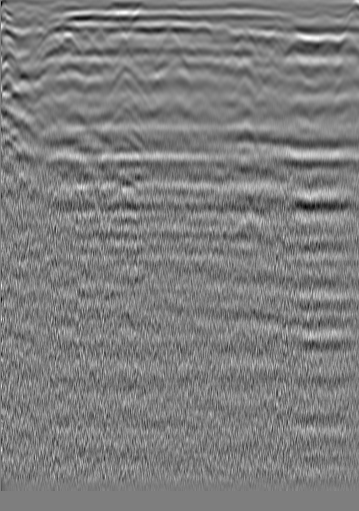가스: (106, 167, 144, 197)
상수: (21, 20, 47, 52)
오수: (311, 38, 331, 58)
우수: (157, 29, 177, 49)
